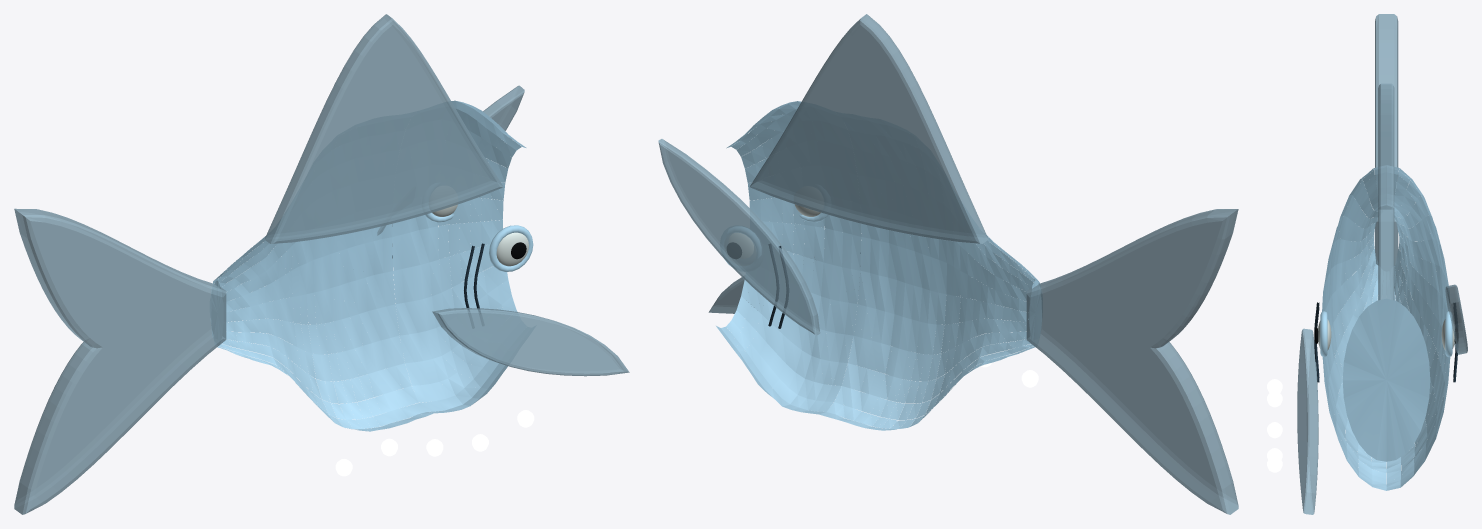
Rendered from silver-hatchet.glb.
The picture shows the model from 3 angles, left to right: view 1: azimuth 30°, elevation 25°; view 2: azimuth 150°, elevation 25°; view 3: azimuth 270°, elevation 25°; orthographic projection. The views are drawn at different scales.
Parts seen in each view (by area): view 1: body, tail_fin, dorsal_fin, pectoral_fin (×2), eye_socket; view 2: body, tail_fin, dorsal_fin, pectoral_fin (×2); view 3: body, pectoral_fin (×2), dorsal_fin, tail_fin, eye_socket (×2).
Boxes of the visible parts, x1,y1,x2,y2 form: body: (210, 100, 526, 431); tail_fin: (14, 208, 226, 514); dorsal_fin: (265, 14, 503, 243); pectoral_fin (×2): (377, 85, 629, 376); eye_socket: (489, 225, 533, 271); body: (716, 101, 1041, 430); tail_fin: (1026, 209, 1238, 514); dorsal_fin: (750, 14, 988, 243); pectoral_fin (×2): (658, 139, 860, 335); body: (1322, 165, 1450, 490); pectoral_fin (×2): (1297, 284, 1467, 514); dorsal_fin: (1378, 83, 1394, 300); tail_fin: (1375, 14, 1398, 294); eye_socket (×2): (1320, 311, 1452, 356).
Size of the model in its own units: 2.59 by 1.78 by 0.8637.
